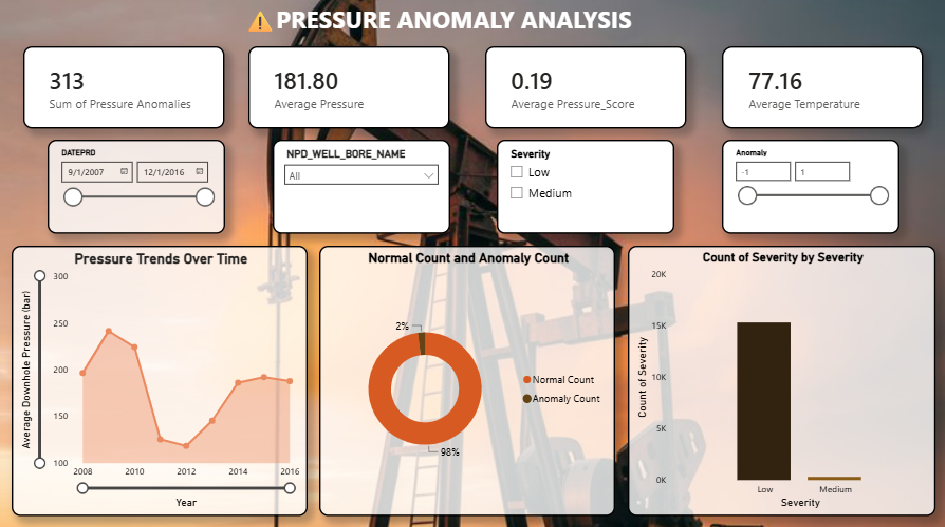

The page's visual inventory and layout, read from the dashboard file:
{"tool":"powerbi","page":{"name":"Page 3","canvas":[1280,720],"ordinal":2},"visuals":[{"type":"cardVisual","fields":{"Data":["Sum(pressure_anomaly_results.Pressure Anomalies)"]},"box":[32,64,272,112],"z":0},{"type":"cardVisual","fields":{"Data":["Volve production data.Average Pressure"]},"box":[336,64,272,112],"z":1000},{"type":"cardVisual","fields":{"Data":["pressure_anomaly_results.Average Pressure_Score"]},"box":[656,64,272,112],"z":2000},{"type":"cardVisual","fields":{"Data":["Volve production data.Average Temperature"]},"box":[976,64,272,112],"z":3000},{"type":"lineChart","title":"Pressure Trends Over Time","fields":{"Category":["pressure_anomaly_results.DATEPRD.Variation.Date Hierarchy.Year","pressure_anomaly_results.DATEPRD.Variation.Date Hierarchy.Quarter","pressure_anomaly_results.DATEPRD.Variation.Date Hierarchy.Month","pressure_anomaly_results.DATEPRD.Variation.Date Hierarchy.Day"],"Y":["Avg(pressure_anomaly_results.AVG_DOWNHOLE_PRESSURE)"]},"box":[16,336,400,368],"z":4000},{"type":"donutChart","fields":{"Y":["pressure_anomaly_results.Normal Count","pressure_anomaly_results.Anomaly Count"]},"box":[432,336,400,368],"z":5000},{"type":"lineStackedColumnComboChart","fields":{"Category":["pressure_anomaly_results.Severity"],"Y":["CountNonNull(pressure_anomaly_results.Severity)"]},"box":[848,336,416,368],"z":6000},{"type":"slicer","fields":{"Values":["pressure_anomaly_results.DATEPRD"]},"box":[64,192,240,128],"z":7000},{"type":"slicer","fields":{"Values":["pressure_anomaly_results.NPD_WELL_BORE_NAME"]},"box":[368,192,240,128],"z":8000},{"type":"slicer","fields":{"Values":["pressure_anomaly_results.Severity"]},"box":[672,192,240,128],"z":9000},{"type":"slicer","fields":{"Values":["pressure_anomaly_results.Anomaly"]},"box":[976,192,240,128],"z":10000},{"type":"textbox","box":[96,0,992,64],"z":11000}]}

Visuals, with their boxes in screenshot pixels (x1, y1, x2, y2), scaled from the page's 1280x720 canvas onto the 945x527 screenshot:
cardVisual - Sum(pressure_anomaly_results.Pressure Anomalies): region(24, 47, 224, 129)
cardVisual - Volve production data.Average Pressure: region(248, 47, 449, 129)
cardVisual - pressure_anomaly_results.Average Pressure_Score: region(484, 47, 685, 129)
cardVisual - Volve production data.Average Temperature: region(721, 47, 921, 129)
"Pressure Trends Over Time" lineChart: region(12, 246, 307, 515)
donutChart - pressure_anomaly_results.Normal Count x pressure_anomaly_results.Anomaly Count: region(319, 246, 614, 515)
lineStackedColumnComboChart - pressure_anomaly_results.Severity x CountNonNull(pressure_anomaly_results.Severity): region(626, 246, 933, 515)
slicer - pressure_anomaly_results.DATEPRD: region(47, 141, 224, 234)
slicer - pressure_anomaly_results.NPD_WELL_BORE_NAME: region(272, 141, 449, 234)
slicer - pressure_anomaly_results.Severity: region(496, 141, 673, 234)
slicer - pressure_anomaly_results.Anomaly: region(721, 141, 898, 234)
textbox: region(71, 0, 803, 47)
